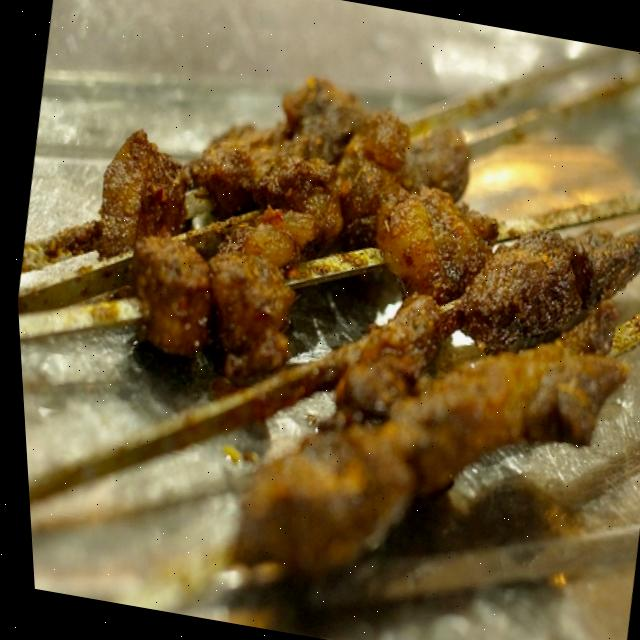烧串烤肉: (1, 21, 640, 640)
